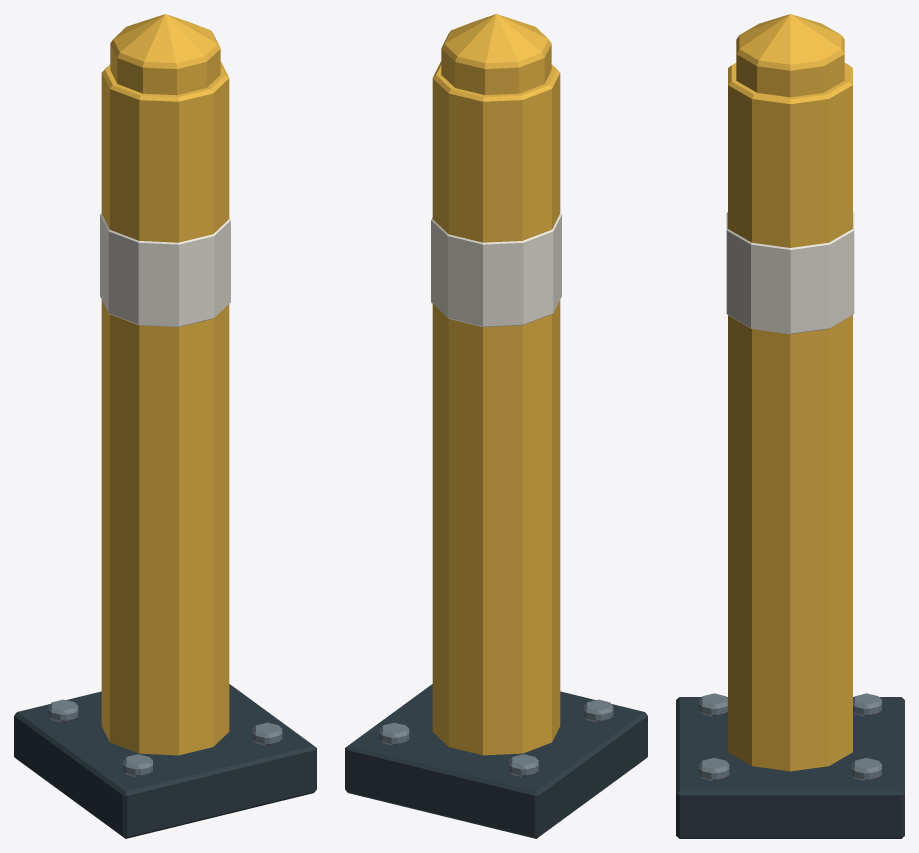
Rendered from b02_steel_safety_bollard.glb.
3 views of the same model, side by side, from view 1: azimuth 30°, elevation 25°; view 2: azimuth 150°, elevation 25°; view 3: azimuth 270°, elevation 25° (orthographic). The views are drawn at different scales.
Visible parts, largest first — view 1: b02_steel_safety_bollard; view 2: b02_steel_safety_bollard; view 3: b02_steel_safety_bollard.
Boxes of the visible parts, x1,y1,x2,y2 form: b02_steel_safety_bollard: (14, 14, 316, 838); b02_steel_safety_bollard: (345, 14, 647, 838); b02_steel_safety_bollard: (676, 14, 904, 838).
Bounding box in the file's own units: 0.3 × 1.13 × 0.3.
